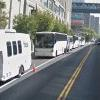Bus: (34, 25, 77, 56)
